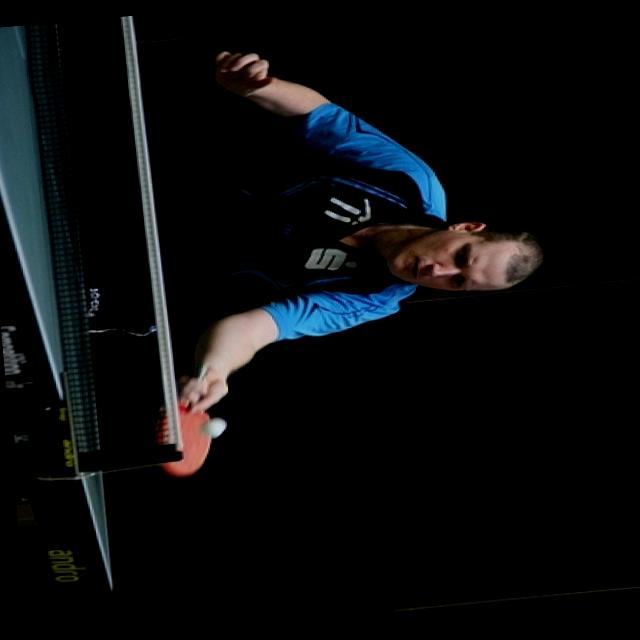TT Net: (20, 14, 188, 477)
TT Racket: (150, 356, 223, 488)
TT Table: (0, 22, 113, 596)
